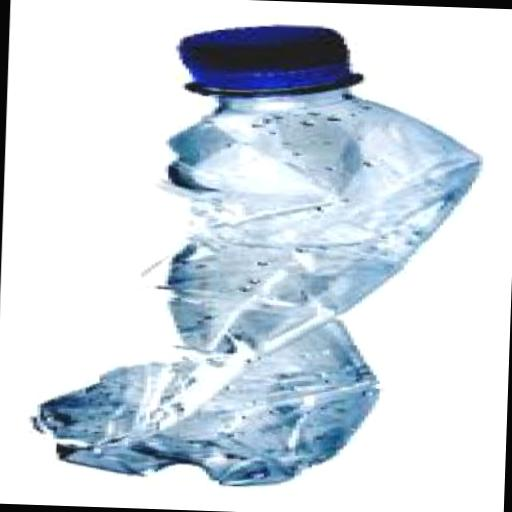plastic: (26, 14, 479, 492), (169, 18, 364, 100)
